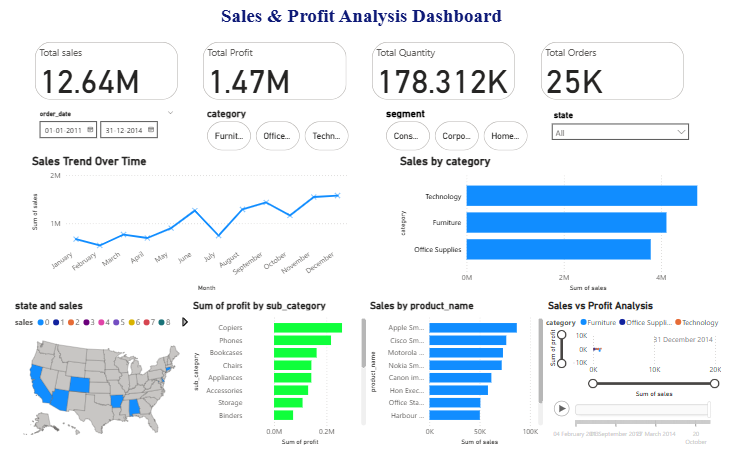

The dashboard page shown, as its layout file describes it:
{"tool":"powerbi","page":{"name":"Page 1","canvas":[1280,800],"ordinal":0},"visuals":[{"type":"textbox","box":[299,25.2,660.2,48.7],"z":0},{"type":"cardVisual","fields":{"Data":["SuperStoreOrders__2.Total Profit"]},"box":[357.8,87.3,252,107.5],"z":1000},{"type":"cardVisual","fields":{"Data":["SuperStoreOrders__2.Total Quantity"]},"box":[641.7,87.3,250.3,107.5],"z":2000},{"type":"cardVisual","fields":{"Data":["SuperStoreOrders__2.Total Orders"]},"box":[925.6,87.3,250.3,107.5],"z":3000},{"type":"lineChart","title":"Sales Trend Over Time","fields":{"Y":["Sum(SuperStoreOrders__2.sales)"],"Category":["SuperStoreOrders__2.order_date.Variation.Date Hierarchy.Month"]},"box":[70.6,280.5,539.2,235.2],"z":4000},{"type":"clusteredBarChart","title":"Sales by category","fields":{"Category":["SuperStoreOrders__2.category"],"Y":["Sum(SuperStoreOrders__2.sales)"]},"box":[688.7,280.5,539.2,235.2],"z":5000},{"type":"shapeMap","fields":{"Category":["SuperStoreOrders__2.state"],"Series":["SuperStoreOrders__2.sales"]},"box":[42,523.8,300.7,250.3],"z":6000},{"type":"clusteredBarChart","fields":{"Category":["SuperStoreOrders__2.sub_category"],"Y":["Sum(SuperStoreOrders__2.profit)"]},"box":[340.4,523.8,300.7,250.3],"z":7000},{"type":"clusteredBarChart","title":"Sales by product_name","fields":{"Y":["Sum(SuperStoreOrders__2.sales)"],"Category":["SuperStoreOrders__2.product_name"]},"box":[638.9,523.8,300.7,250.3],"z":8000},{"type":"scatterChart","title":"Sales vs Profit Analysis","fields":{"X":["Sum(SuperStoreOrders__2.sales)"],"Y":["Sum(SuperStoreOrders__2.profit)"],"Size":["Sum(SuperStoreOrders__2.quantity)"],"Series":["SuperStoreOrders__2.category"],"Play":["SuperStoreOrders__2.order_date"],"Category":["SuperStoreOrders__2.product_name"]},"box":[937.3,523.8,300.7,250.3],"z":9000},{"type":"slicer","fields":{"Values":["SuperStoreOrders__2.order_date"]},"box":[75.6,201.6,250.3,79],"z":10000},{"type":"advancedSlicerVisual","fields":{"Values":["SuperStoreOrders__2.category"]},"box":[364.5,201.6,250.3,79],"z":11000},{"type":"advancedSlicerVisual","fields":{"Values":["SuperStoreOrders__2.segment"]},"box":[665.2,201.6,248.6,79],"z":12000},{"type":"slicer","fields":{"Values":["SuperStoreOrders__2.state"]},"box":[939,201.6,250.3,80.6],"z":13000},{"type":"cardVisual","fields":{"Data":["SuperStoreOrders__2.Total sales"]},"box":[75.6,87.3,250.3,107.5],"z":14000}]}

Visuals, with their boxes in screenshot pixels (x1, y1, x2, y2), scaled from the page's 1280x800 canvas onto the 742x462 screenshot:
textbox: crop(173, 15, 556, 43)
cardVisual - SuperStoreOrders__2.Total Profit: crop(207, 50, 353, 112)
cardVisual - SuperStoreOrders__2.Total Quantity: crop(372, 50, 517, 112)
cardVisual - SuperStoreOrders__2.Total Orders: crop(537, 50, 682, 112)
"Sales Trend Over Time" lineChart: crop(41, 162, 353, 298)
"Sales by category" clusteredBarChart: crop(399, 162, 712, 298)
shapeMap - SuperStoreOrders__2.state x SuperStoreOrders__2.sales: crop(24, 302, 199, 447)
clusteredBarChart - SuperStoreOrders__2.sub_category x Sum(SuperStoreOrders__2.profit): crop(197, 302, 372, 447)
"Sales by product_name" clusteredBarChart: crop(370, 302, 545, 447)
"Sales vs Profit Analysis" scatterChart: crop(543, 302, 718, 447)
slicer - SuperStoreOrders__2.order_date: crop(44, 116, 189, 162)
advancedSlicerVisual - SuperStoreOrders__2.category: crop(211, 116, 356, 162)
advancedSlicerVisual - SuperStoreOrders__2.segment: crop(386, 116, 530, 162)
slicer - SuperStoreOrders__2.state: crop(544, 116, 689, 163)
cardVisual - SuperStoreOrders__2.Total sales: crop(44, 50, 189, 112)
